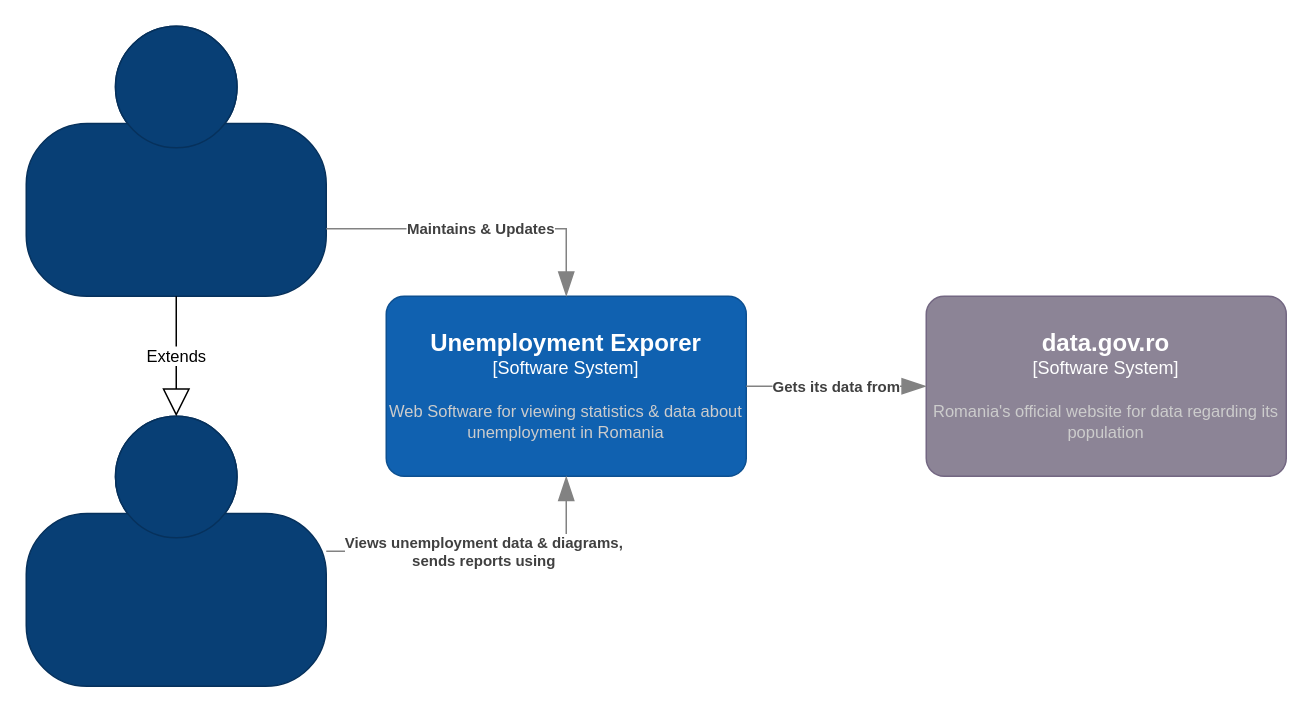
Some shapes in this 1313 by 713 pixel diagram are drawn without their labels. Each missing label, with the box of its shape:
Admin [Person] Person with administrator account that maintains the application: (25, 25, 326, 296)
User [Person] Person without account that uses the application: (25, 415, 326, 686)
